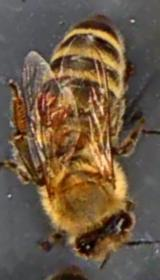varroa_mite: (40, 102, 73, 126)
